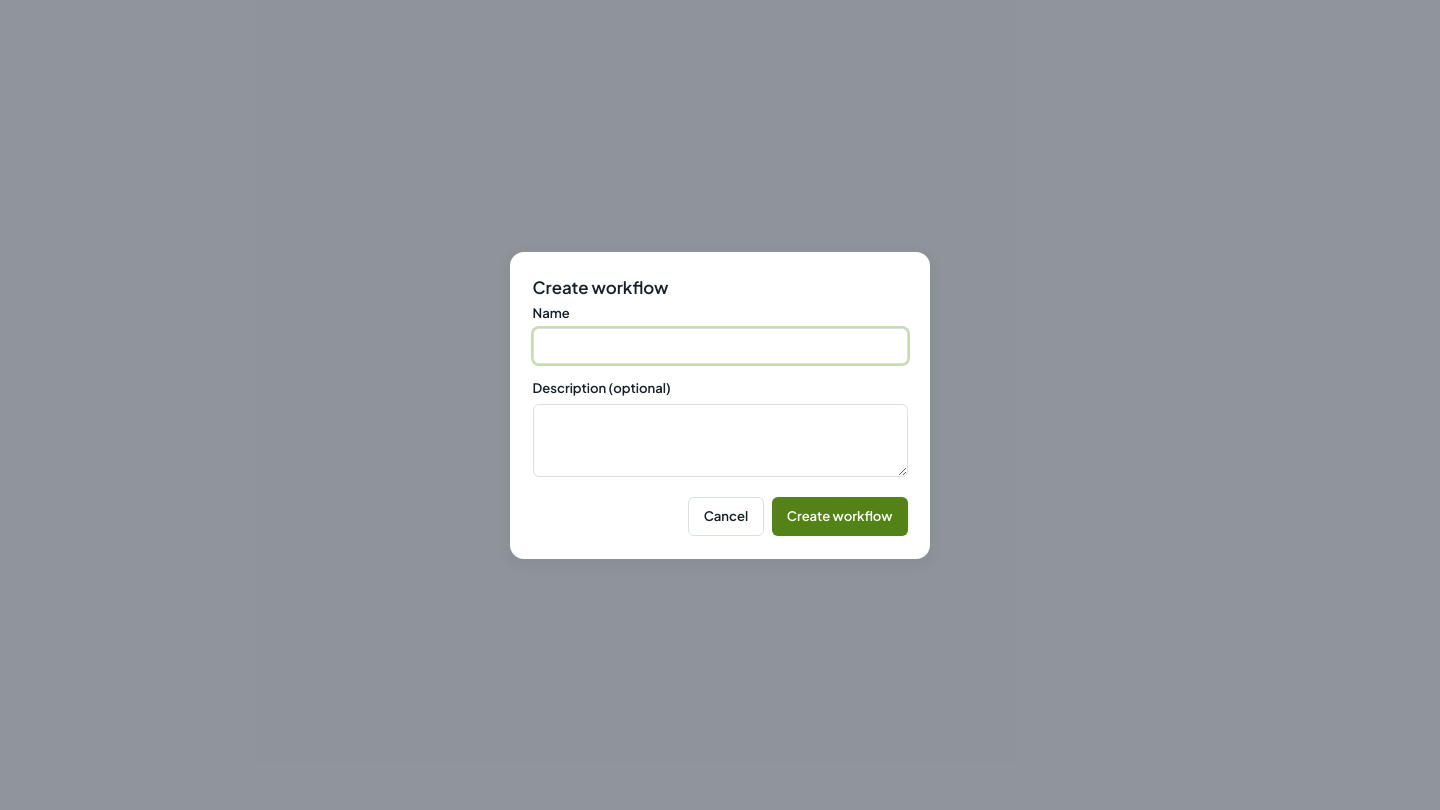
Test: CreateWorkflowModal › creates the workflow and moves to its detail page
Type "Cancel a booking" into the field labelled "Name". click: (720, 346)
box: [532,328,908,364]
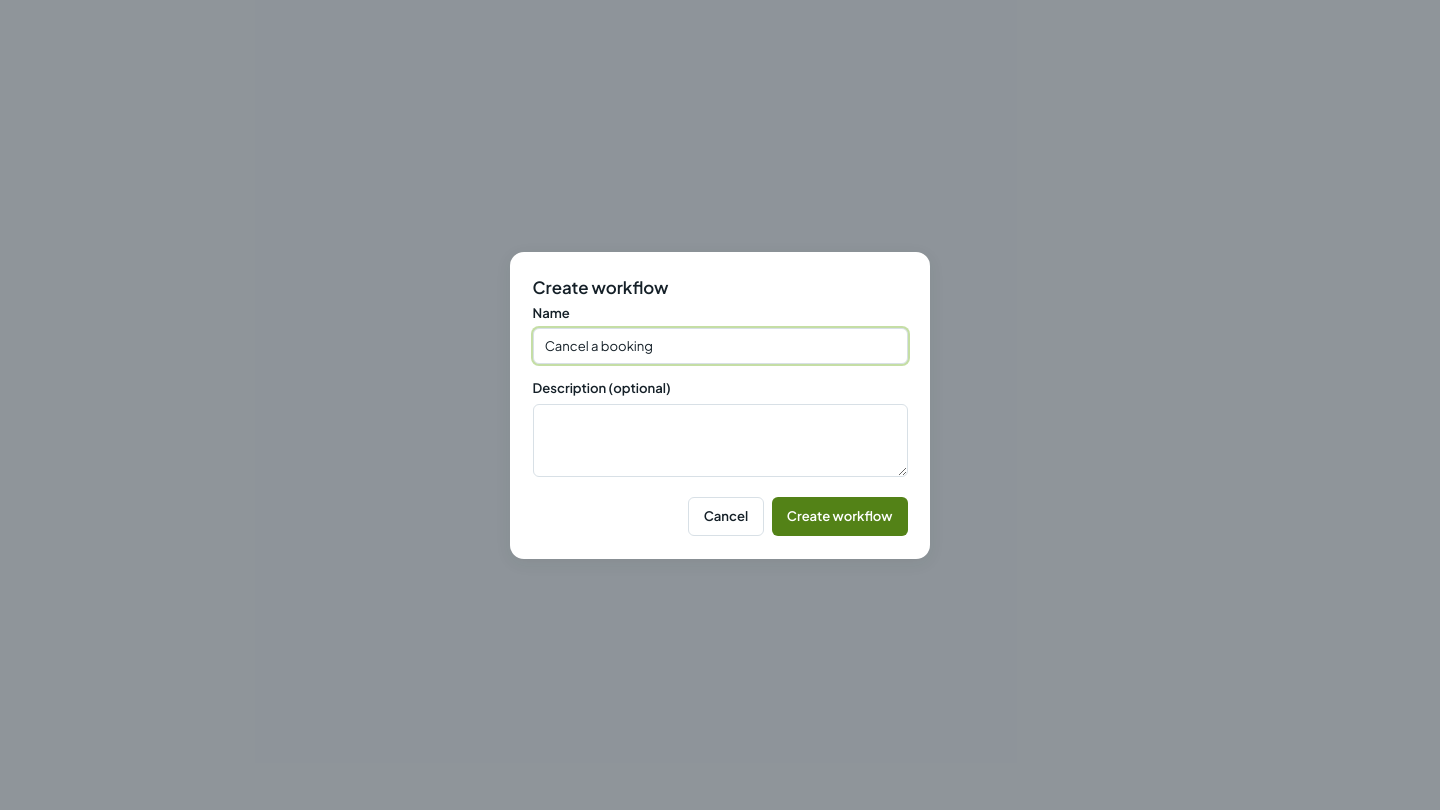
Type "Cancels an existing reservation." into the text box labelled "Description (optional)". click: (720, 440)
box: [532,404,908,477]
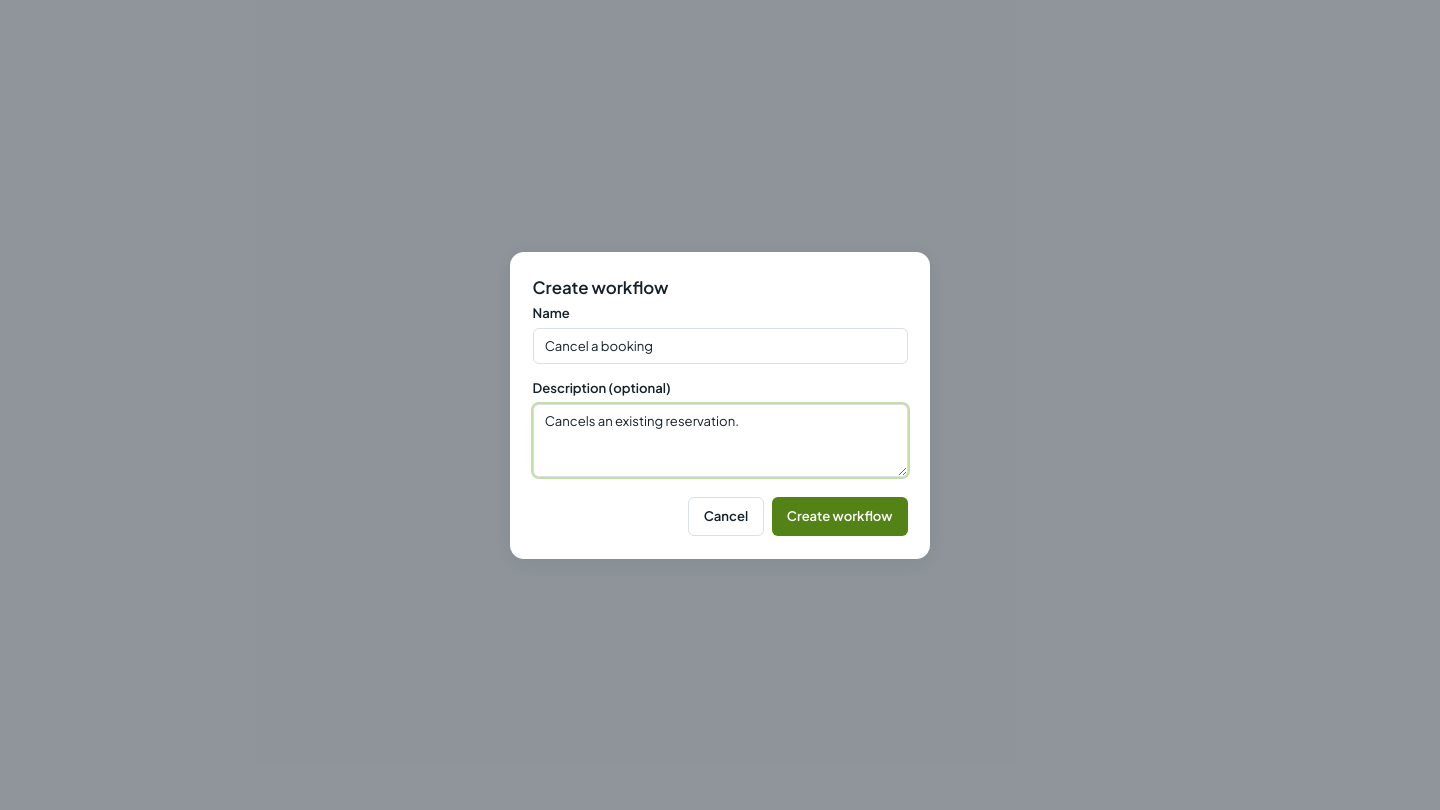
Click the button "Create workflow". click: (840, 516)
box: [772,496,908,536]
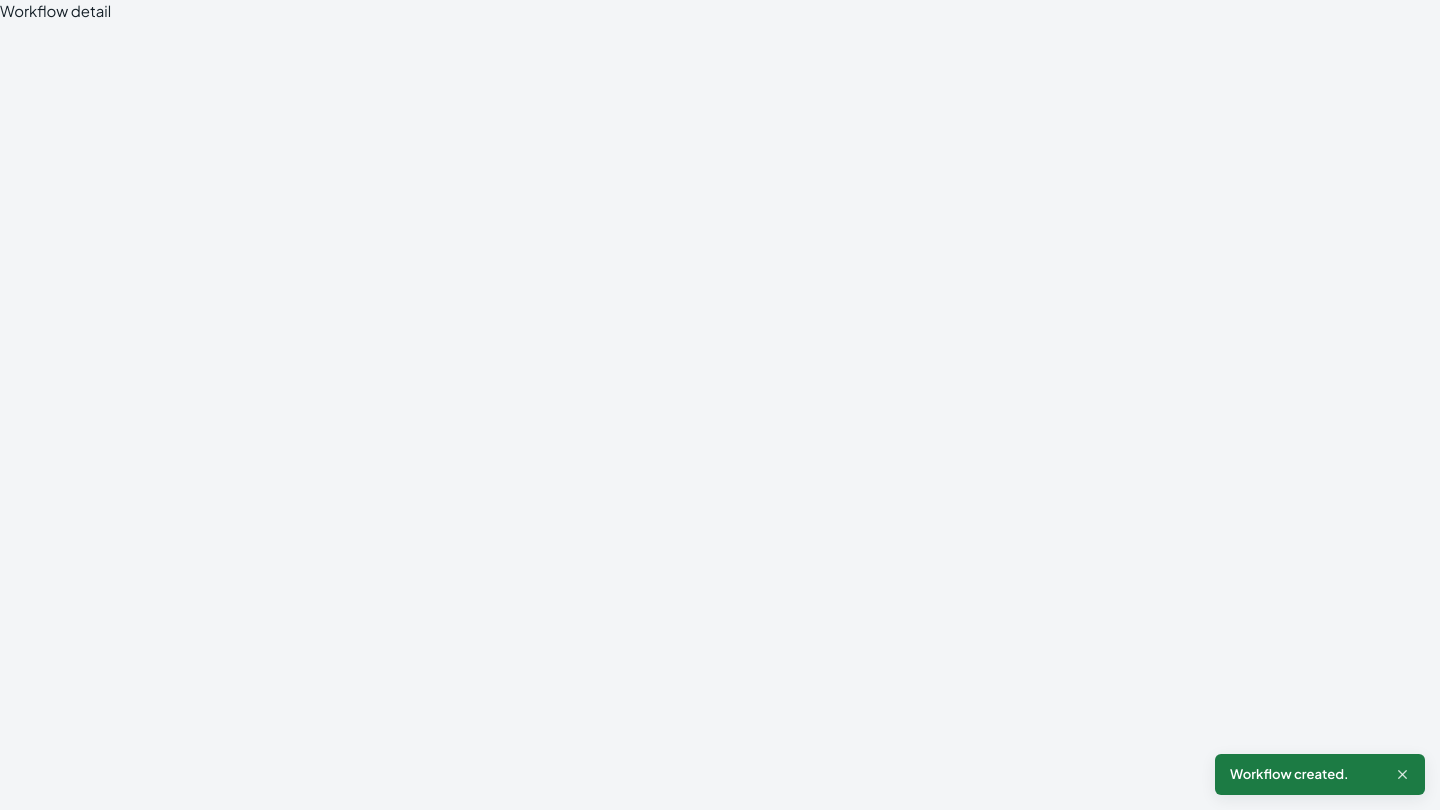
expect the heading "Workflow detail" is shown: met, box [0,1,111,20]
